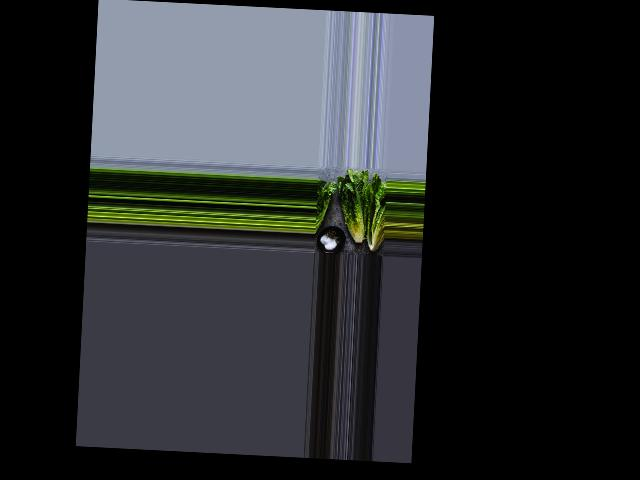lettuce: (362, 179, 386, 256)
